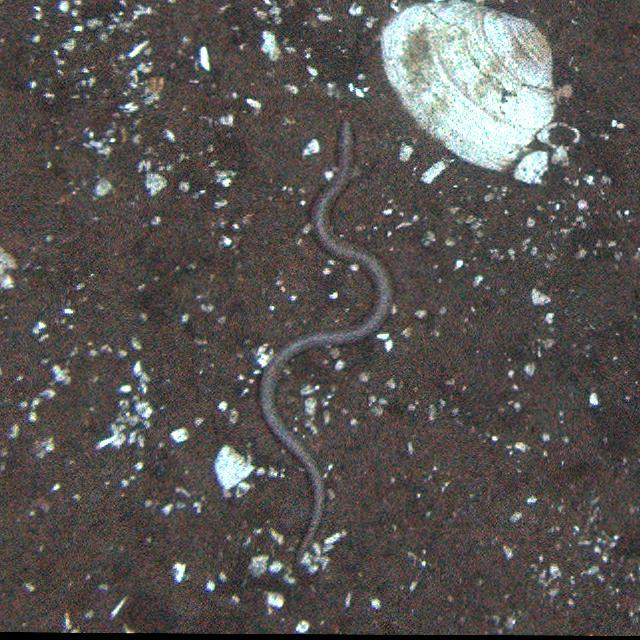eel: (257, 119, 396, 569)
